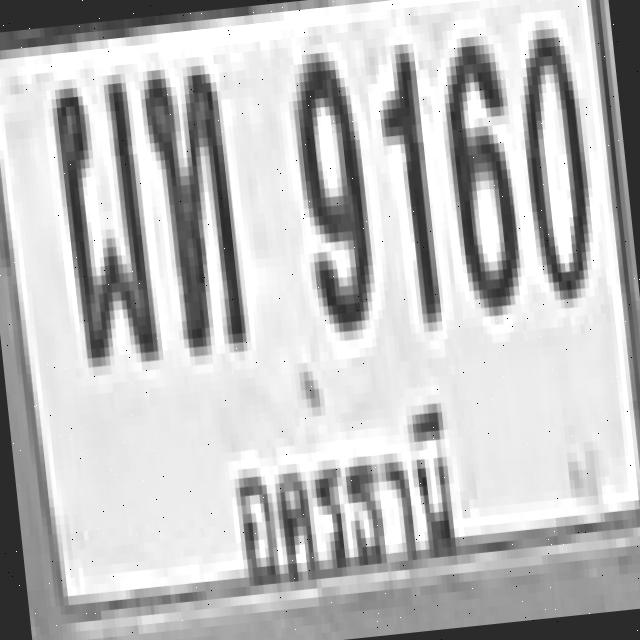0: (508, 18, 594, 293)
1: (372, 39, 436, 321)
32ThorThaHan: (136, 55, 242, 350)
37PhorPhueng: (47, 74, 157, 368)
6: (432, 26, 520, 310)
9: (282, 42, 373, 326)
UdonThani: (216, 388, 481, 612)
